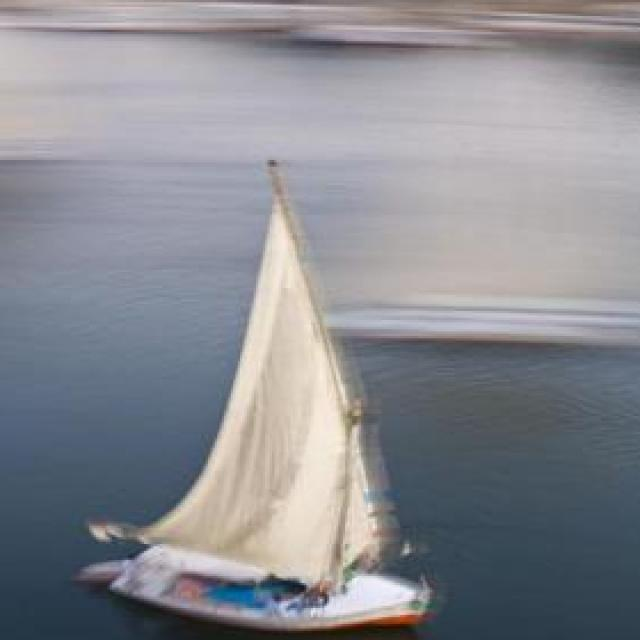sailboat: (96, 156, 454, 631)
